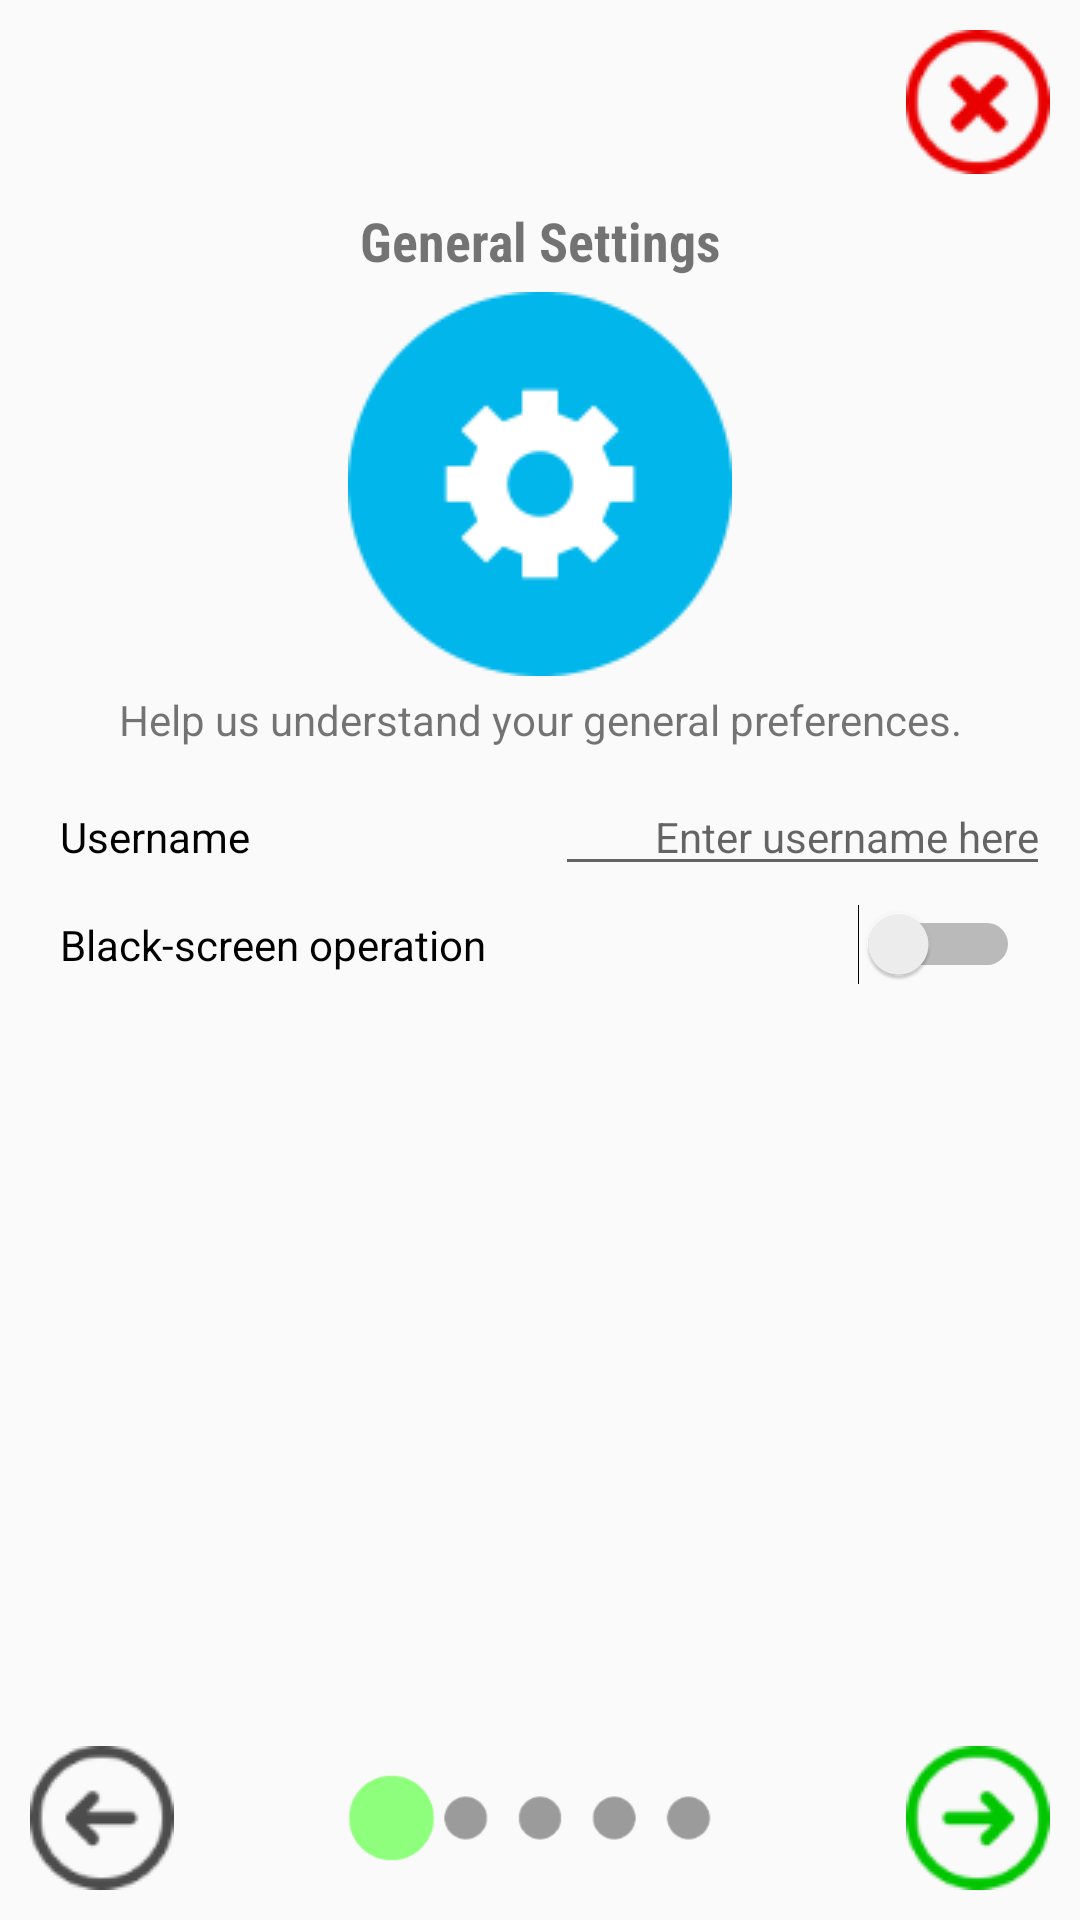

Named icons in this screenshot (1080x1920) and their bounding boxes, bbox(x1, y1, x2, y2):
next: bbox(906, 1746, 1050, 1890)
prev: bbox(30, 1746, 174, 1890)
skip: bbox(906, 30, 1050, 174)
